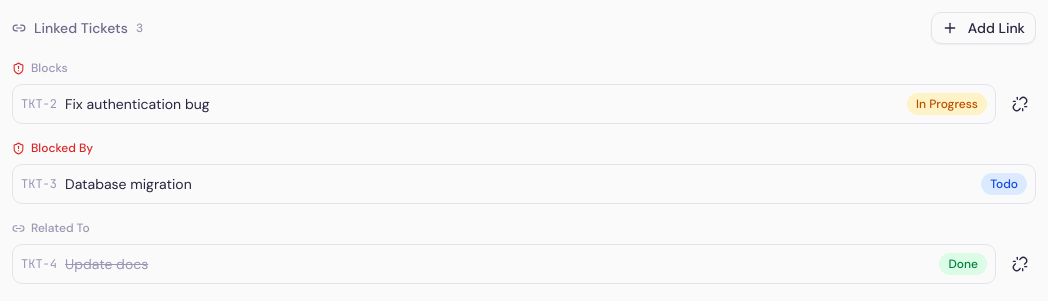
Test: TicketLinks › removing links › removes link from UI after successful removal
The image size is (1048, 301).
Expected: the text "Fix authentication bug" is shown, [65,95,210,113]
Click the button with test id "remove-link-ticket-2" at (1020, 104), box [1004,88,1036,120]
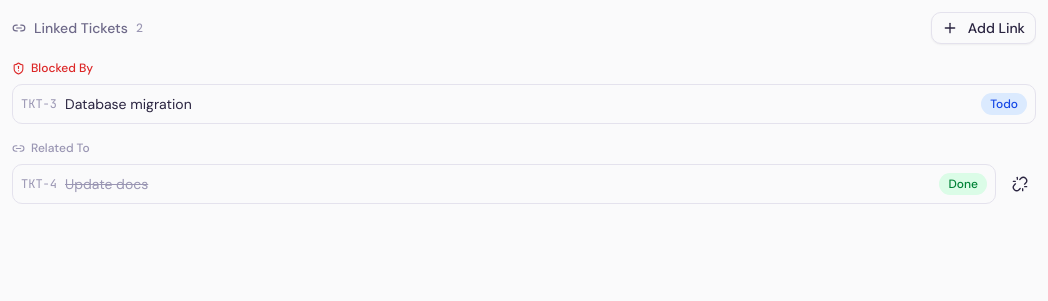
Result: the link "Fix authentication bug" is gone
